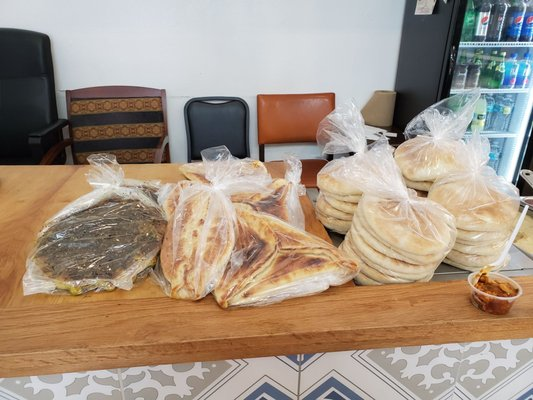soup: (26, 184, 169, 296), (158, 182, 238, 302)
sushi: (467, 268, 524, 315)
